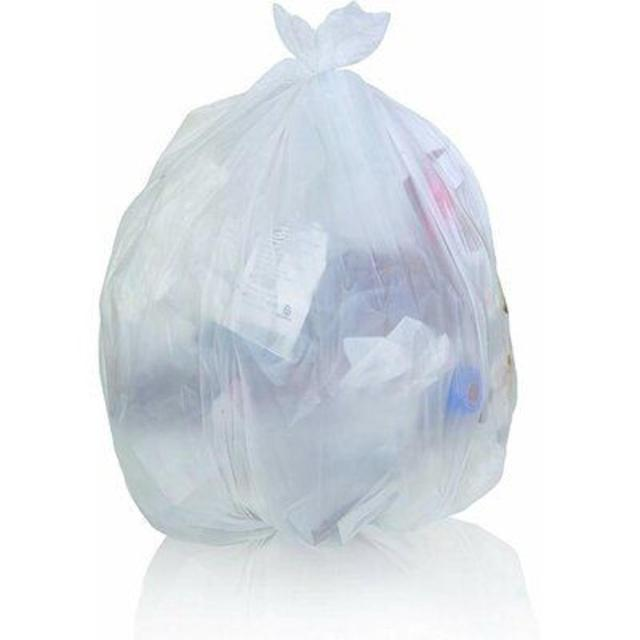KantongPlastik: (96, 0, 520, 550)
